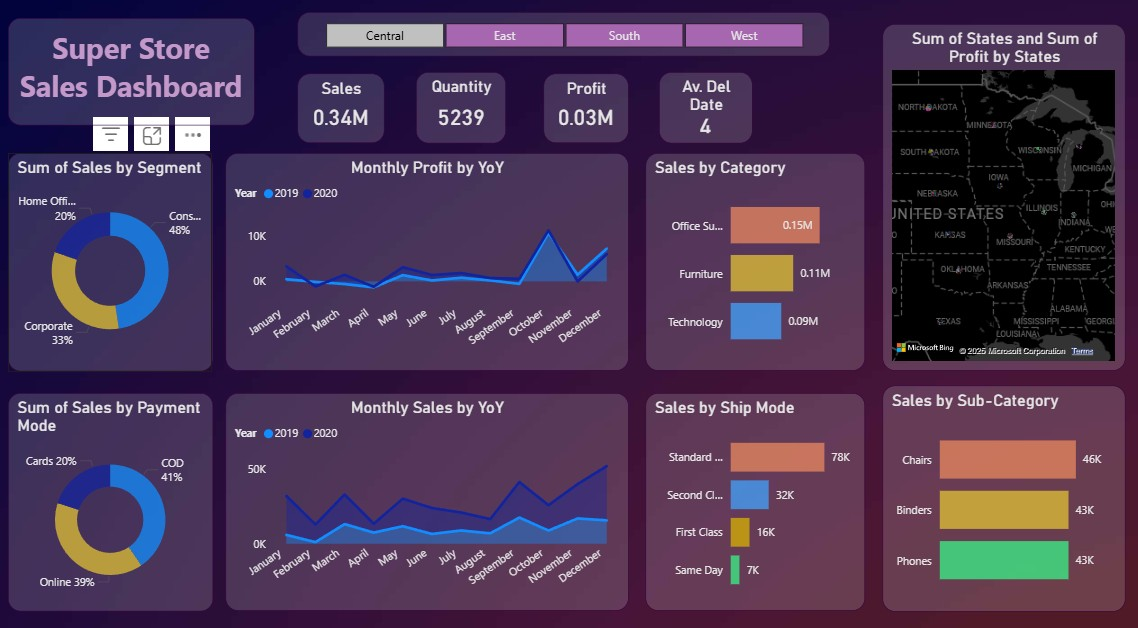

The page's visual inventory and layout, read from the dashboard file:
{"tool":"powerbi","page":{"name":"Page 1","canvas":[1280,720],"ordinal":0},"visuals":[{"type":"clusteredBarChart","title":"Sales by Category ","fields":{"Category":["SuperStore_Sales_Dataset.Category"],"Y":["Sum(SuperStore_Sales_Dataset.Sales)"]},"box":[725.7,173.9,243.8,241.9],"z":0},{"type":"clusteredBarChart","title":"Sales by Sub-Category ","fields":{"Category":["SuperStore_Sales_Dataset.Sub-Category"],"Y":["Sum(SuperStore_Sales_Dataset.Sales)"]},"box":[988.4,430.9,270.2,251.3],"z":1000},{"type":"clusteredBarChart","title":"Sales by Ship Mode ","fields":{"Category":["SuperStore_Sales_Dataset.Ship Mode"],"Y":["Sum(SuperStore_Sales_Dataset.Sales)"]},"box":[725.7,440.3,243.8,241.9],"z":2000},{"type":"stackedAreaChart","title":"Monthly Sales by YoY","fields":{"Y":["Sum(SuperStore_Sales_Dataset.Sales)"],"Series":["SuperStore_Sales_Dataset.Order Date.Variation.Date Hierarchy.Year"],"Category":["SuperStore_Sales_Dataset.Order Date.Variation.Date Hierarchy.Month"]},"box":[258.9,440.3,447.9,241.9],"z":3000},{"type":"stackedAreaChart","title":"Monthly Profit by YoY","fields":{"Series":["SuperStore_Sales_Dataset.Order Date.Variation.Date Hierarchy.Year"],"Category":["SuperStore_Sales_Dataset.Order Date.Variation.Date Hierarchy.Month"],"Y":["Sum(SuperStore_Sales_Dataset.Profit)"]},"box":[258.9,173.9,447.9,241.9],"z":4000},{"type":"map","title":"Sum of States and Sum of Profit by States","fields":{"Category":["SuperStore_Sales_Dataset.State"],"Series":["SuperStore_Sales_Dataset.Sales"]},"box":[988.4,30.2,270.2,385.5],"z":5000},{"type":"donutChart","fields":{"Category":["SuperStore_Sales_Dataset.Segment"],"Y":["Sum(SuperStore_Sales_Dataset.Sales)"]},"box":[16.3,174,227.7,242.4],"z":6000},{"type":"donutChart","fields":{"Y":["Sum(SuperStore_Sales_Dataset.Sales)"],"Category":["SuperStore_Sales_Dataset.Payment Mode"]},"box":[16.3,440.8,227.7,242.4],"z":7000},{"type":"slicer","fields":{"Values":["SuperStore_Sales_Dataset.Region"]},"box":[338.3,17,591.5,49.1],"z":8000},{"type":"textbox","box":[17,22.7,274,119.1],"z":9000},{"type":"card","title":"Sales","fields":{"Values":["Sum(SuperStore_Sales_Dataset.Sales)"]},"box":[338.3,85,96.4,77.5],"z":10000},{"type":"card","title":"Quantity","fields":{"Values":["Sum(SuperStore_Sales_Dataset.Quantity)"]},"box":[470.6,83.2,100.2,79.4],"z":11000},{"type":"card","title":"Profit","fields":{"Values":["Sum(SuperStore_Sales_Dataset.Profit)"]},"box":[612.3,85,94.5,77.5],"z":12000},{"type":"card","title":"Av. Del Date","fields":{"Values":["Avg(SuperStore_Sales_Dataset.Average Delivery)"]},"box":[740.8,83.2,103.9,79.4],"z":13000}]}

Visuals, with their boxes in screenshot pixels (x1, y1, x2, y2), scaled from the page's 1280x720 canvas onto the 1138x628 screenshot:
"Sales by Category " clusteredBarChart: {"x1": 645, "y1": 152, "x2": 862, "y2": 363}
"Sales by Sub-Category " clusteredBarChart: {"x1": 879, "y1": 376, "x2": 1119, "y2": 595}
"Sales by Ship Mode " clusteredBarChart: {"x1": 645, "y1": 384, "x2": 862, "y2": 595}
"Monthly Sales by YoY" stackedAreaChart: {"x1": 230, "y1": 384, "x2": 628, "y2": 595}
"Monthly Profit by YoY" stackedAreaChart: {"x1": 230, "y1": 152, "x2": 628, "y2": 363}
"Sum of States and Sum of Profit by States" map: {"x1": 879, "y1": 26, "x2": 1119, "y2": 363}
donutChart - SuperStore_Sales_Dataset.Segment x Sum(SuperStore_Sales_Dataset.Sales): {"x1": 14, "y1": 152, "x2": 217, "y2": 363}
donutChart - Sum(SuperStore_Sales_Dataset.Sales) x SuperStore_Sales_Dataset.Payment Mode: {"x1": 14, "y1": 384, "x2": 217, "y2": 596}
slicer - SuperStore_Sales_Dataset.Region: {"x1": 301, "y1": 15, "x2": 827, "y2": 58}
textbox: {"x1": 15, "y1": 20, "x2": 259, "y2": 124}
"Sales" card: {"x1": 301, "y1": 74, "x2": 386, "y2": 142}
"Quantity" card: {"x1": 418, "y1": 73, "x2": 507, "y2": 142}
"Profit" card: {"x1": 544, "y1": 74, "x2": 628, "y2": 142}
"Av. Del Date" card: {"x1": 659, "y1": 73, "x2": 751, "y2": 142}
